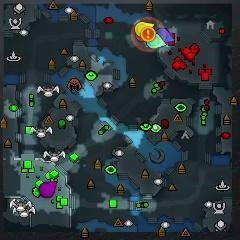Other: (141, 27, 156, 42)
p1: (156, 28, 174, 42)
p2: (147, 34, 167, 48)
p3: (39, 181, 58, 198)
p4: (136, 22, 154, 36)
p5: (134, 36, 146, 42)
